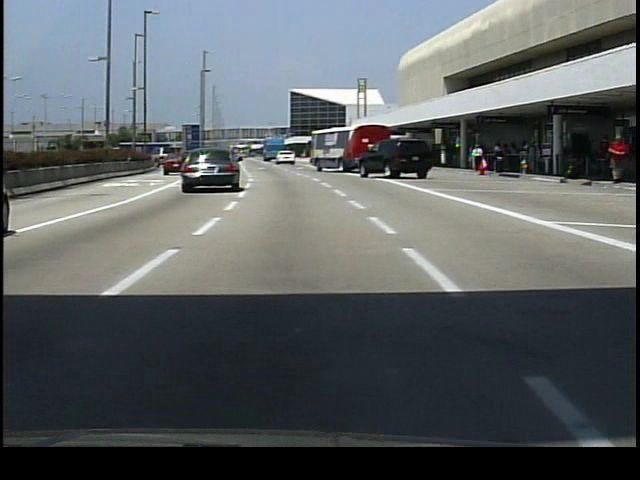person: (605, 133, 629, 185), (470, 142, 486, 177)
